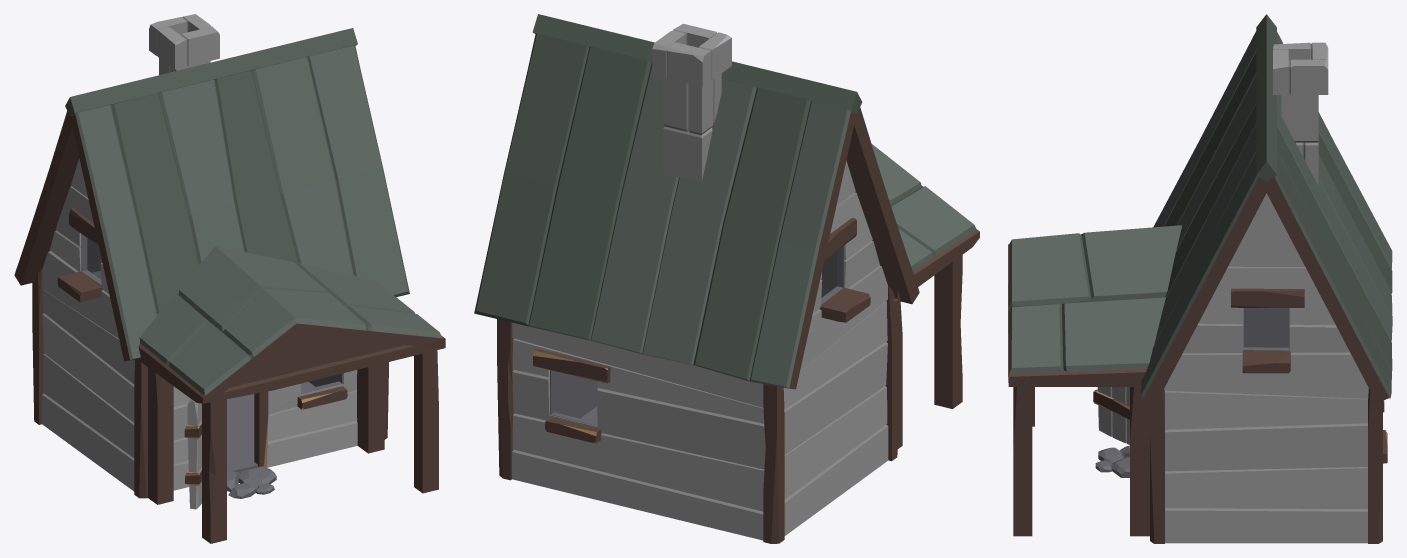
File: House_8.fbx
The picture shows the model from 3 angles, left to right: view 1: azimuth 30°, elevation 25°; view 2: azimuth 150°, elevation 25°; view 3: azimuth 270°, elevation 25°; orthographic projection. The views are drawn at different scales.
Visible parts, largest first — view 1: House_8; view 2: House_8; view 3: House_8.
Boxes of the visible parts, bbox=[...] form: House_8: bbox=[14, 14, 445, 543]; House_8: bbox=[474, 14, 979, 543]; House_8: bbox=[1008, 14, 1392, 543].
Size of the model in its own units: 143 by 187 by 155.
